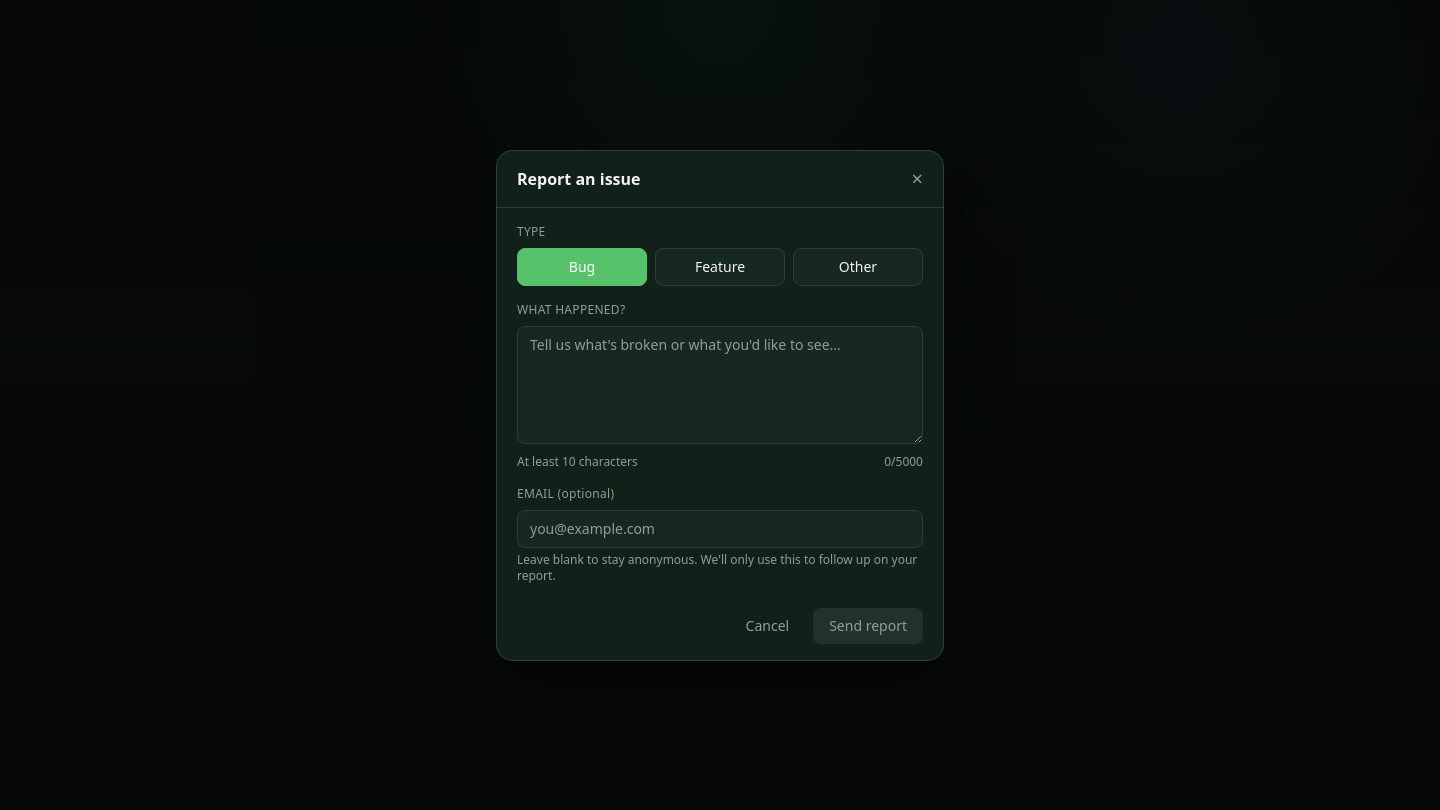
Test case: ReportDialog › sends the expected payload on submit
This screenshot has width=1440, height=810.
// Pick "feature".
Click the radio button labelled "Feature" at [720, 266], box [655,248,785,286]
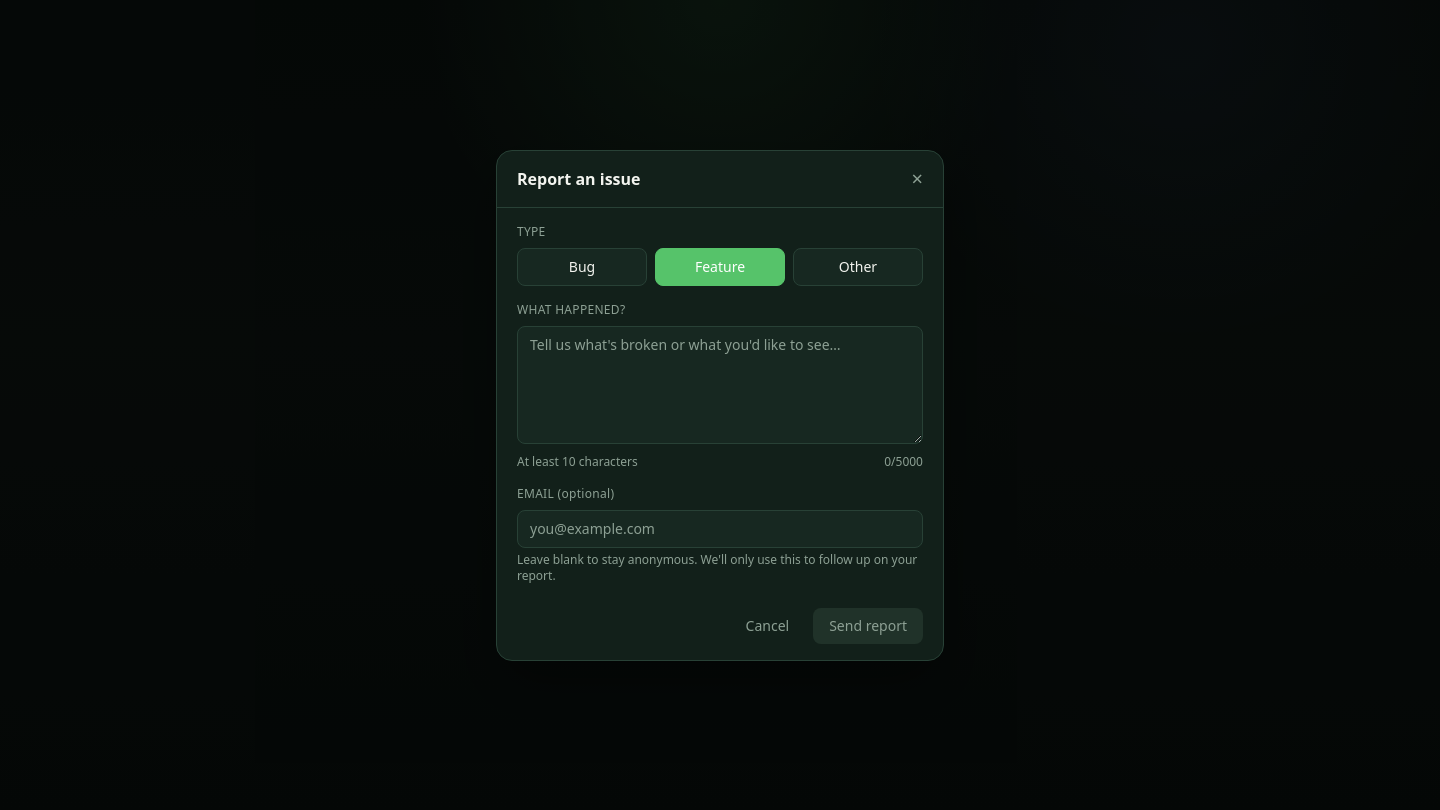
Type "Something is broken on the analysis screen and it never finishes loading." into the text box labelled "What happened?" at [720, 384], box [517,326,923,444]
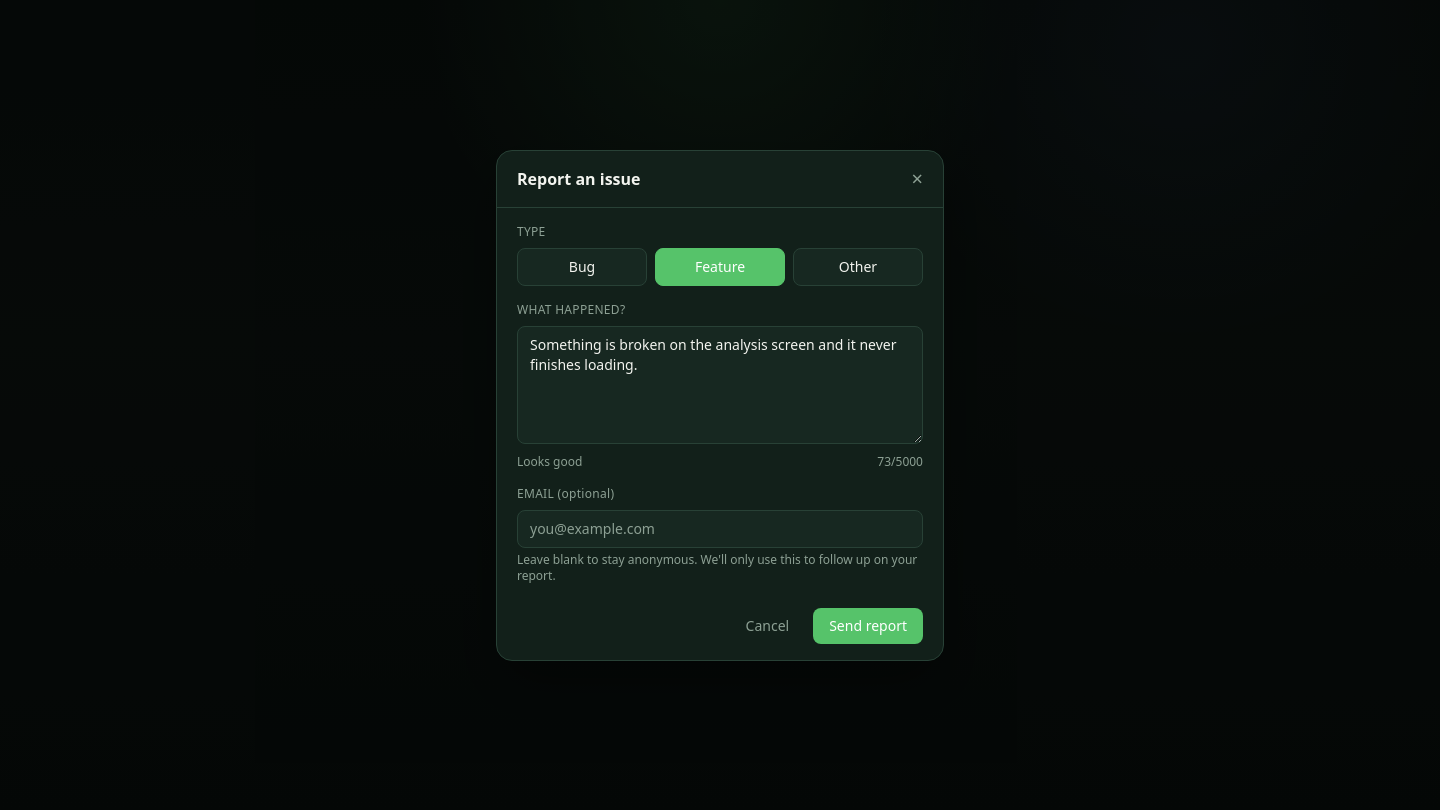
Type "u@example.com" into the field labelled "Email (optional)" at [720, 528], box [517,510,923,548]
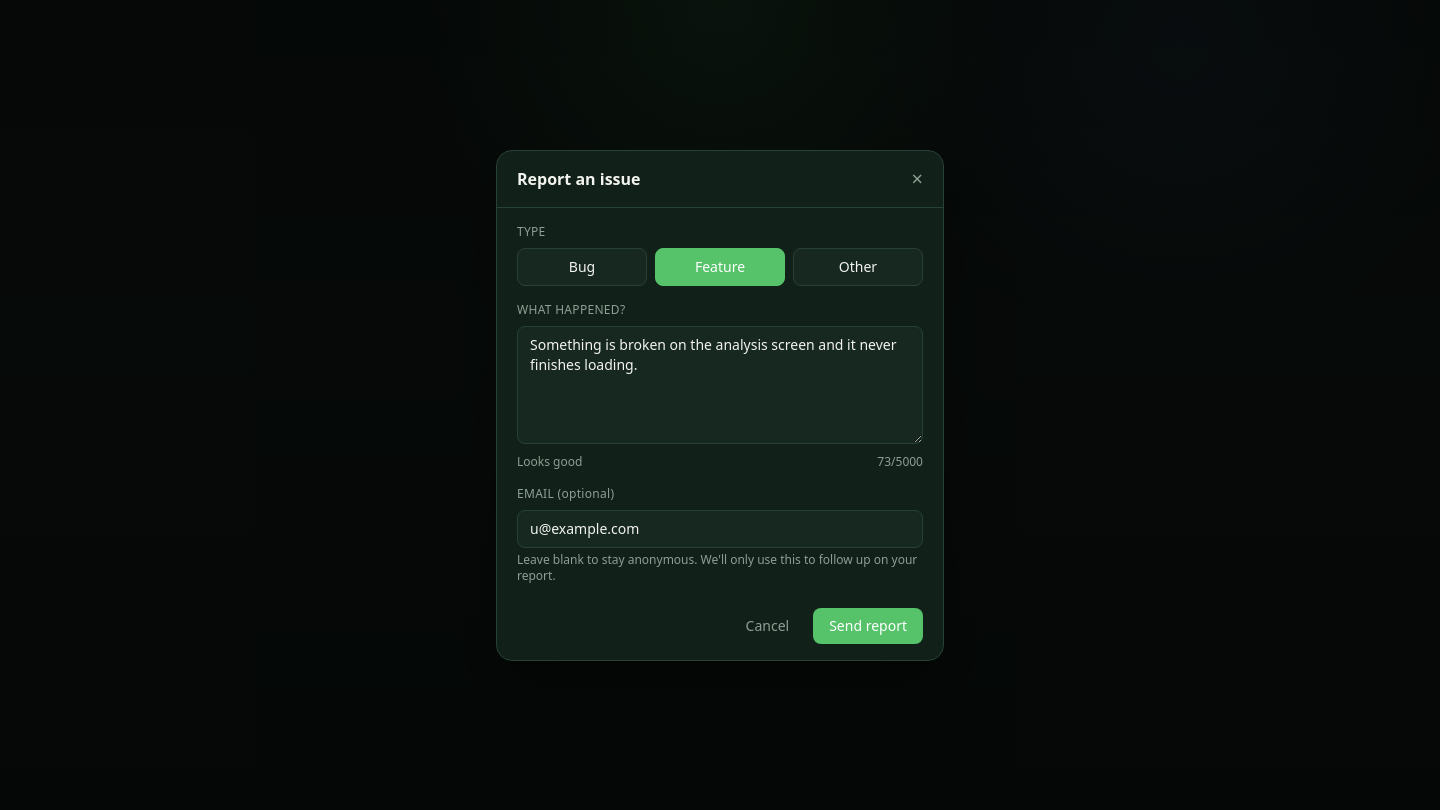
Click the button "Send report" at [868, 626], box [813,608,923,644]
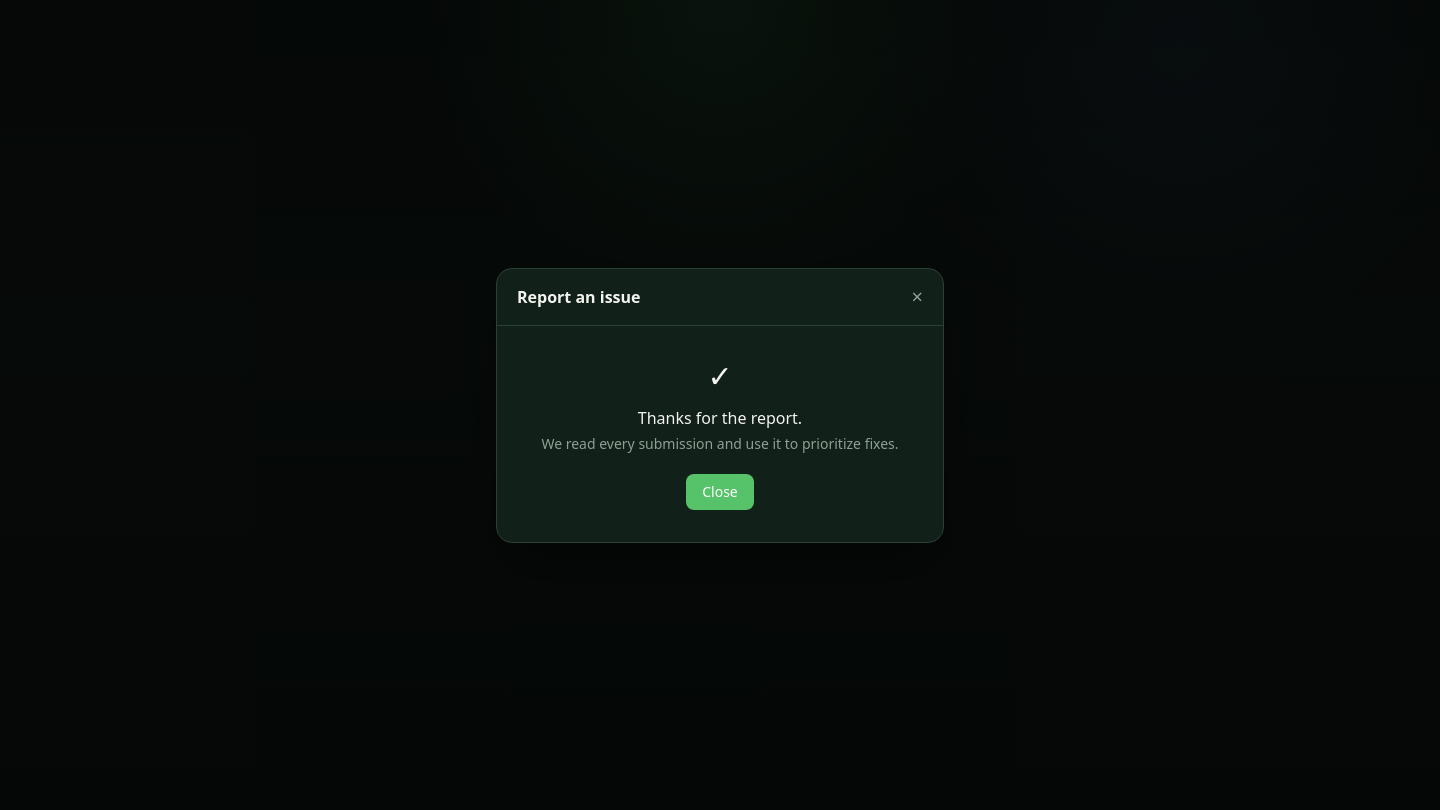
Now the text "Thanks for the report." is shown, box [638,406,802,428]
